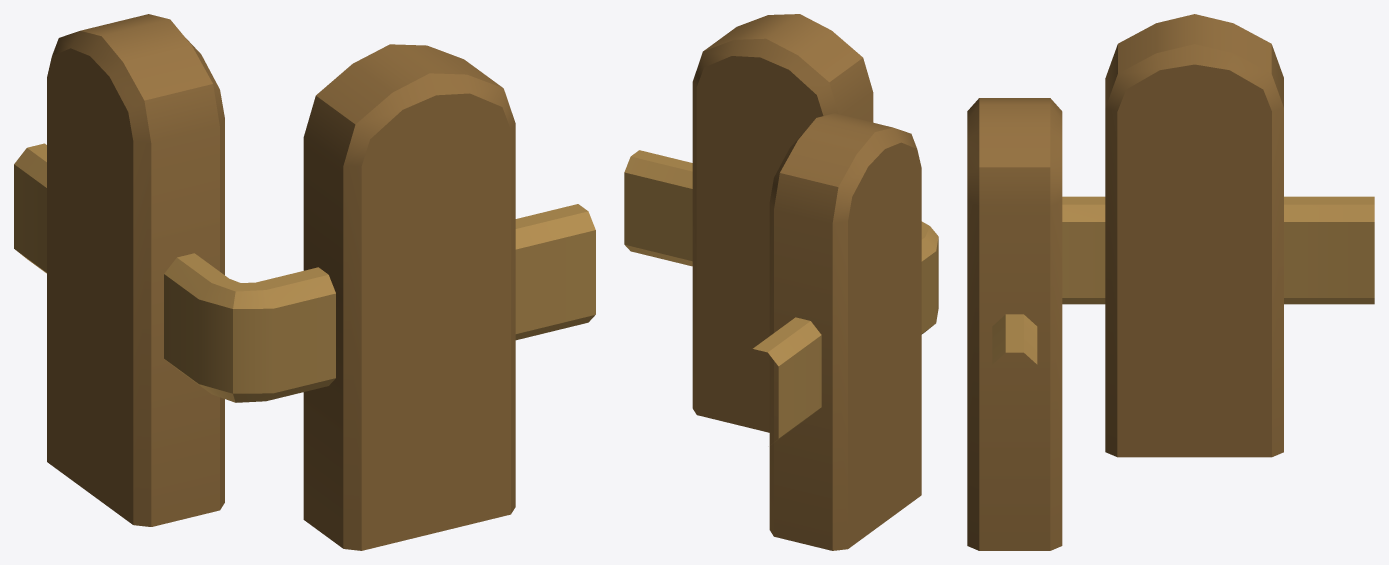
Rendered from quaternius-platformer-game-fence-corner.glb.
3 views of the same model, side by side, from view 1: azimuth 30°, elevation 25°; view 2: azimuth 150°, elevation 25°; view 3: azimuth 270°, elevation 25° (orthographic). The views are drawn at different scales.
Parts seen in each view (by area): view 1: Fence_Corner; view 2: Fence_Corner; view 3: Fence_Corner.
Boxes of the visible parts, x1,y1,x2,y2 form: Fence_Corner: (14,14,595,550); Fence_Corner: (624,14,938,550); Fence_Corner: (967,14,1374,550).
Size of the model in its own units: 1.13 by 1.25 by 1.13.
